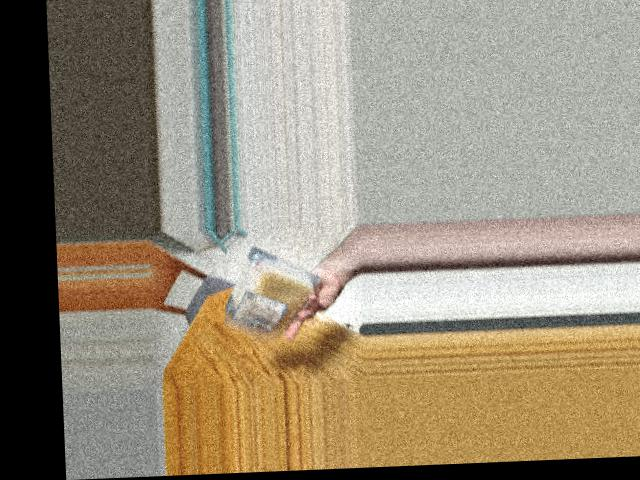cheese: (226, 261, 314, 335)
